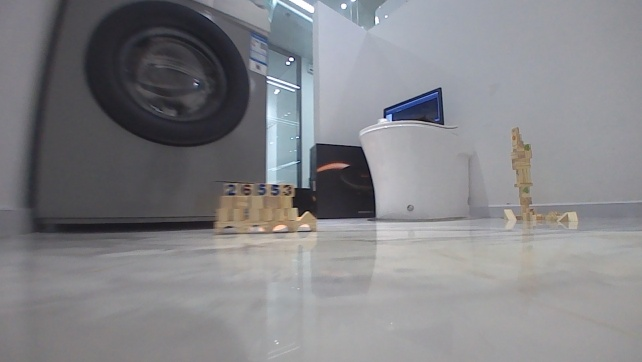plastic_toy: (500, 125, 580, 223), (210, 180, 319, 235)
toilet: (355, 118, 460, 222)
washing_machine: (27, 0, 272, 233)
